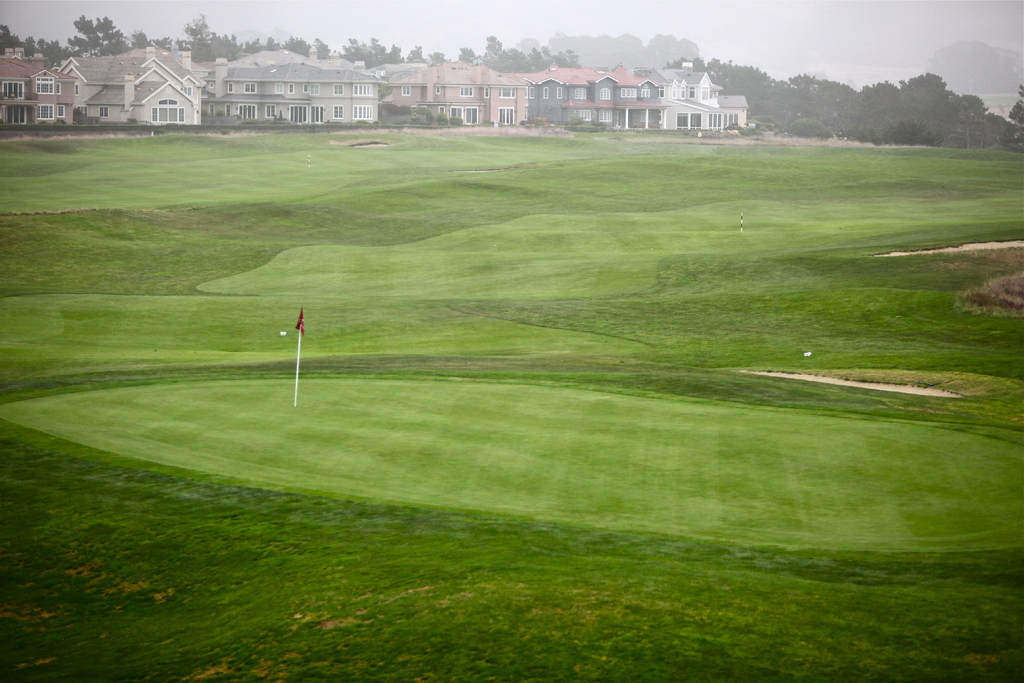Tree: (0, 16, 1024, 149)
